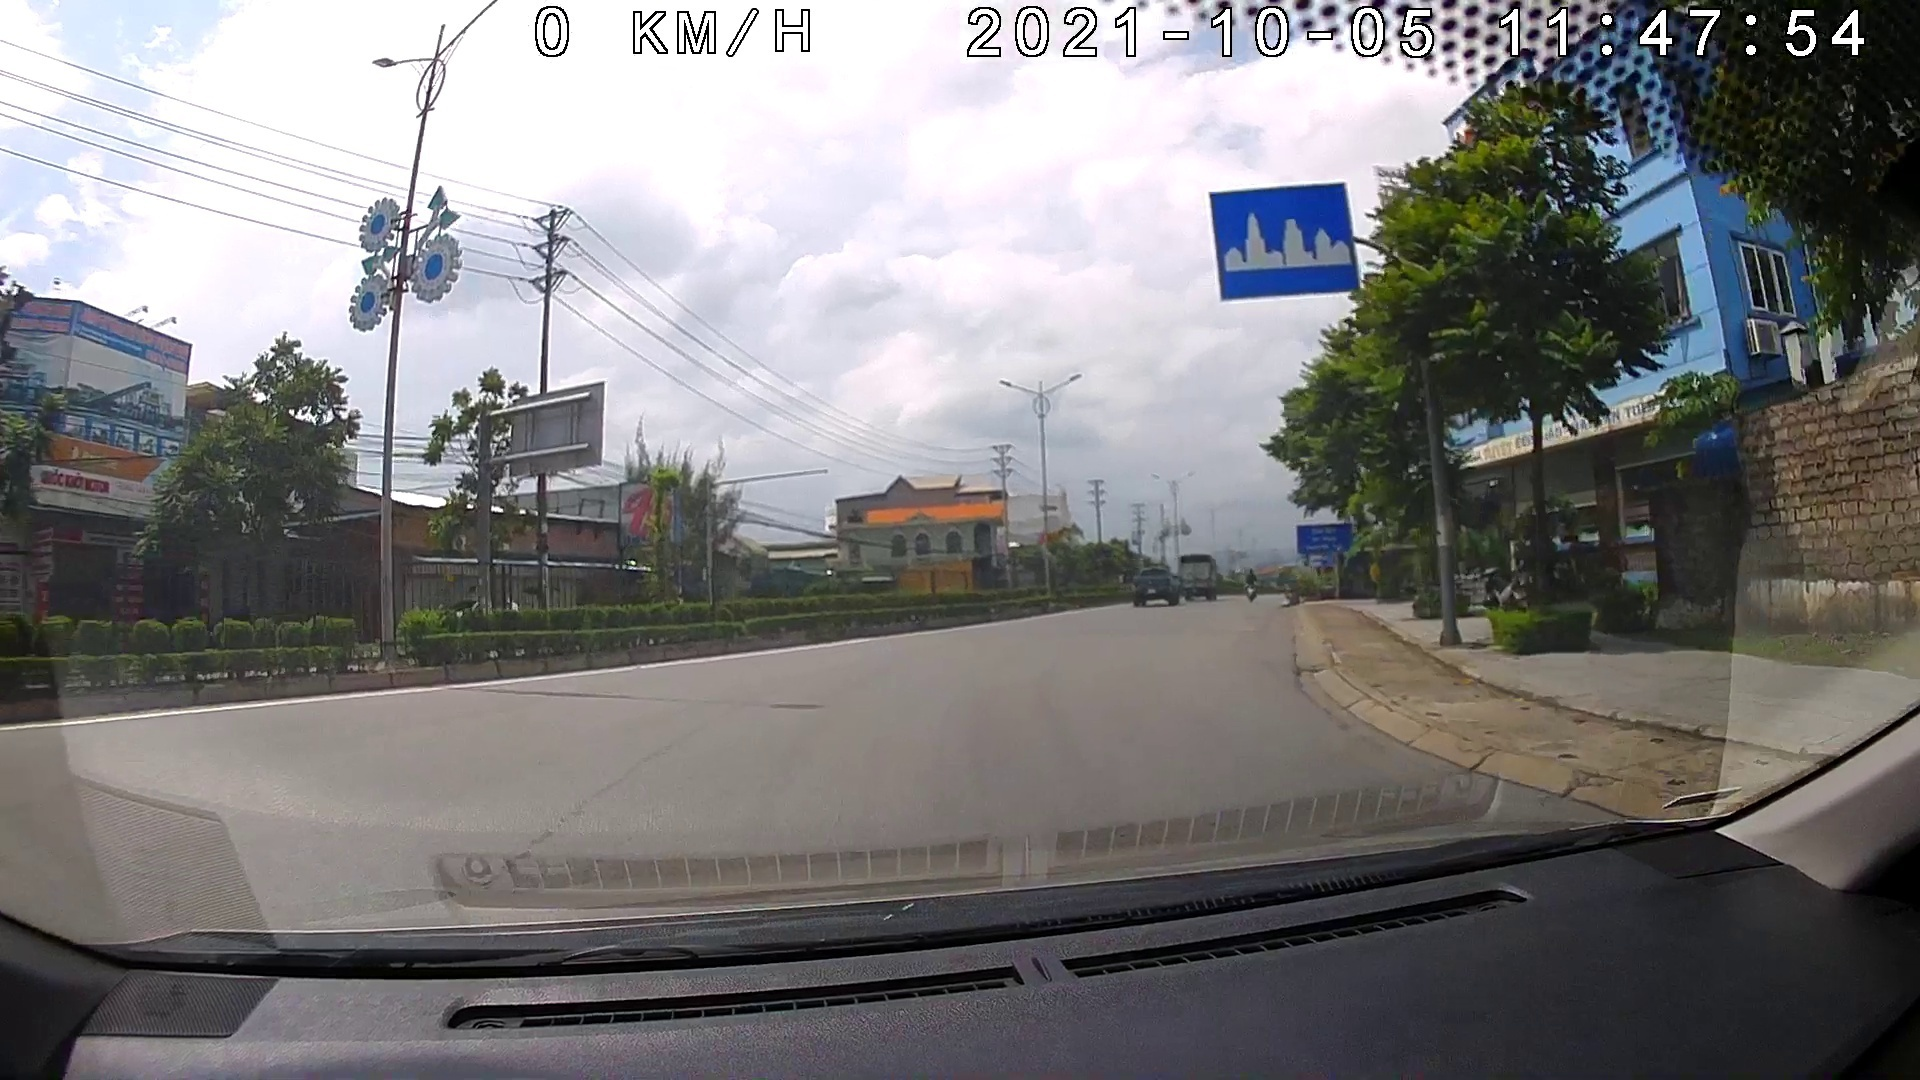Bien khac: (1208, 179, 1361, 305)
